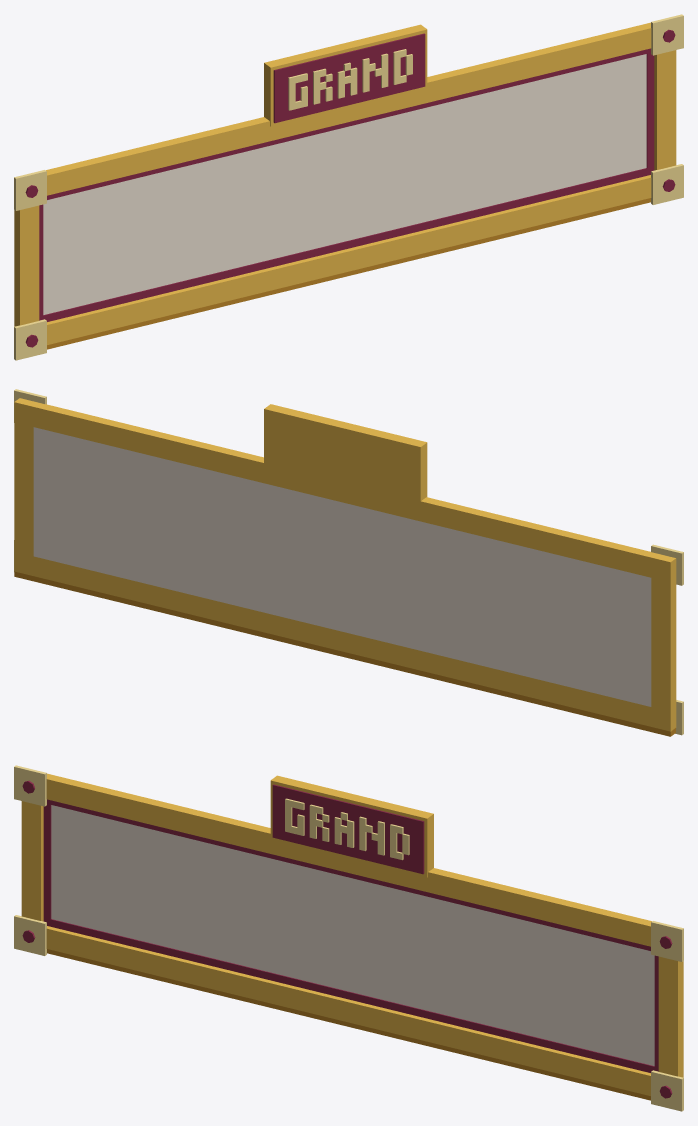
The model's file is CatCafe_Plot_SignGrand.glb.
3 renders of one model, top to bottom at view 1: azimuth 30°, elevation 25°; view 2: azimuth 150°, elevation 25°; view 3: azimuth 330°, elevation 25°, orthographic.
Visible parts, largest first — view 1: CatCafe_Plot_SignGrand_SignBoard, CatCafe_Plot_SignGrand_Frame, CatCafe_Plot_SignGrand; view 2: CatCafe_Plot_SignGrand_SignBoard, CatCafe_Plot_SignGrand_Frame, CatCafe_Plot_SignGrand; view 3: CatCafe_Plot_SignGrand_SignBoard, CatCafe_Plot_SignGrand_Frame, CatCafe_Plot_SignGrand.
Boxes of the visible parts, x1,y1,x2,y2 form: CatCafe_Plot_SignGrand_SignBoard: (43,54,646,314); CatCafe_Plot_SignGrand_Frame: (14,22,676,344); CatCafe_Plot_SignGrand: (14,14,683,360); CatCafe_Plot_SignGrand_SignBoard: (33,427,651,706); CatCafe_Plot_SignGrand_Frame: (14,398,676,731); CatCafe_Plot_SignGrand: (14,389,683,736); CatCafe_Plot_SignGrand_SignBoard: (51,805,654,1065); CatCafe_Plot_SignGrand_Frame: (21,773,683,1095); CatCafe_Plot_SignGrand: (14,765,683,1111).
Size of the model in its own units: 17.3 by 5.69 by 0.39.
Materials: 1 (1 with a texture image).
